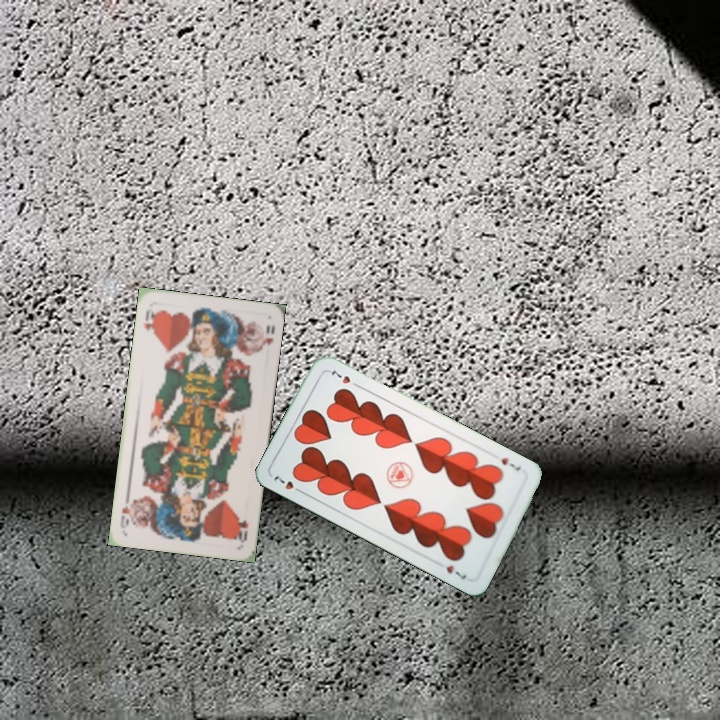H7: (269, 471, 306, 496), (497, 453, 523, 474)
HO: (139, 305, 159, 337), (233, 512, 251, 545)
